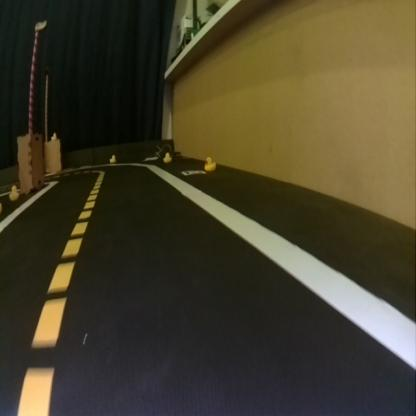Duckie: (204, 156, 216, 170), (9, 186, 18, 200), (162, 152, 171, 162), (110, 154, 116, 162), (52, 132, 57, 140)
QR code: (181, 170, 204, 177)
